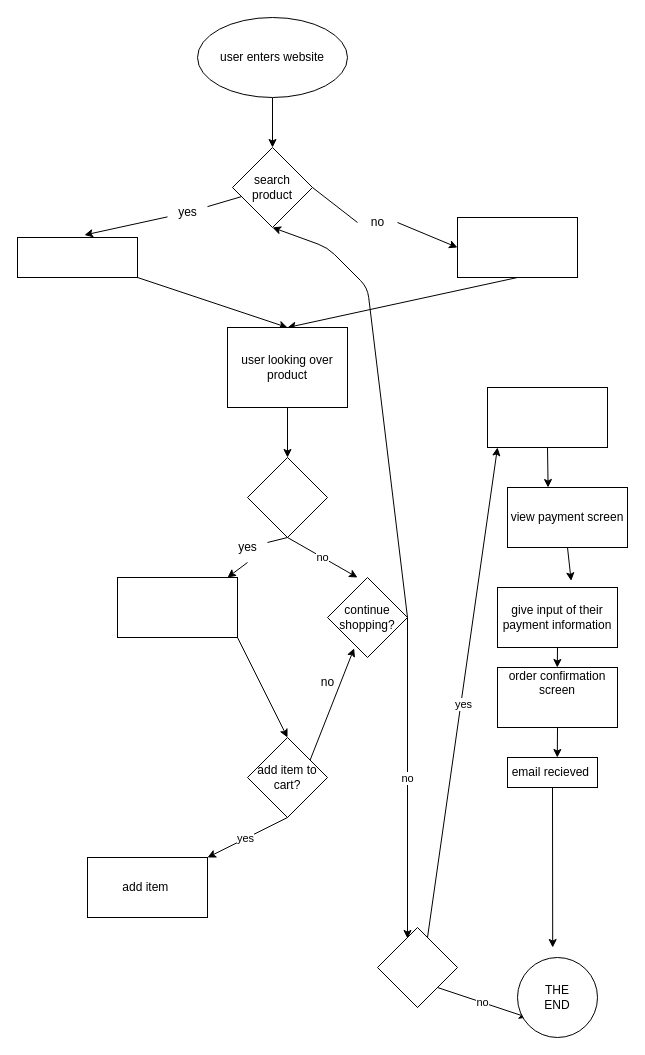
The diagram is 645 pixels wide and 1055 high, and some of its shapes have lost their labels. Each missing label, with the box of its shape:
on home page, explore product: (456, 216, 578, 278)
open prod webpage: (116, 576, 238, 638)
proceed to checkout: (376, 926, 458, 1008)
provide search input: (16, 236, 138, 278)
view cart screen: (486, 386, 608, 448)
view this product: (246, 456, 328, 538)
